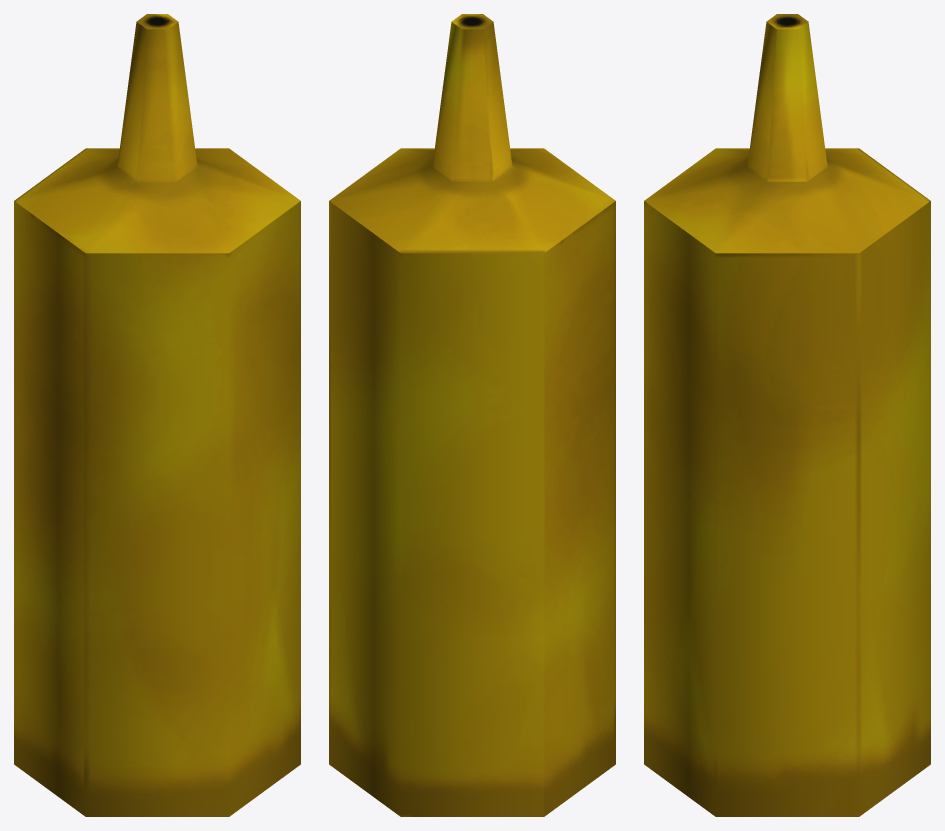
The model's file is Mustard.glb.
The picture shows the model from 3 angles, left to right: view 1: azimuth 30°, elevation 25°; view 2: azimuth 150°, elevation 25°; view 3: azimuth 270°, elevation 25°; orthographic projection.
Parts seen in each view (by area): view 1: Mustard; view 2: Mustard; view 3: Mustard.
Part boxes in pixels (bbox=[...]): Mustard: bbox=[14, 14, 300, 816]; Mustard: bbox=[329, 14, 615, 816]; Mustard: bbox=[644, 14, 930, 816].
Bounding box in the file's own units: 0.0913 × 0.3012 × 0.1054.
1 material, 1 textured.
